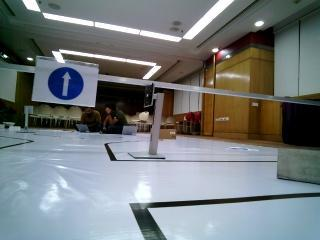straight: (35, 56, 94, 108)
